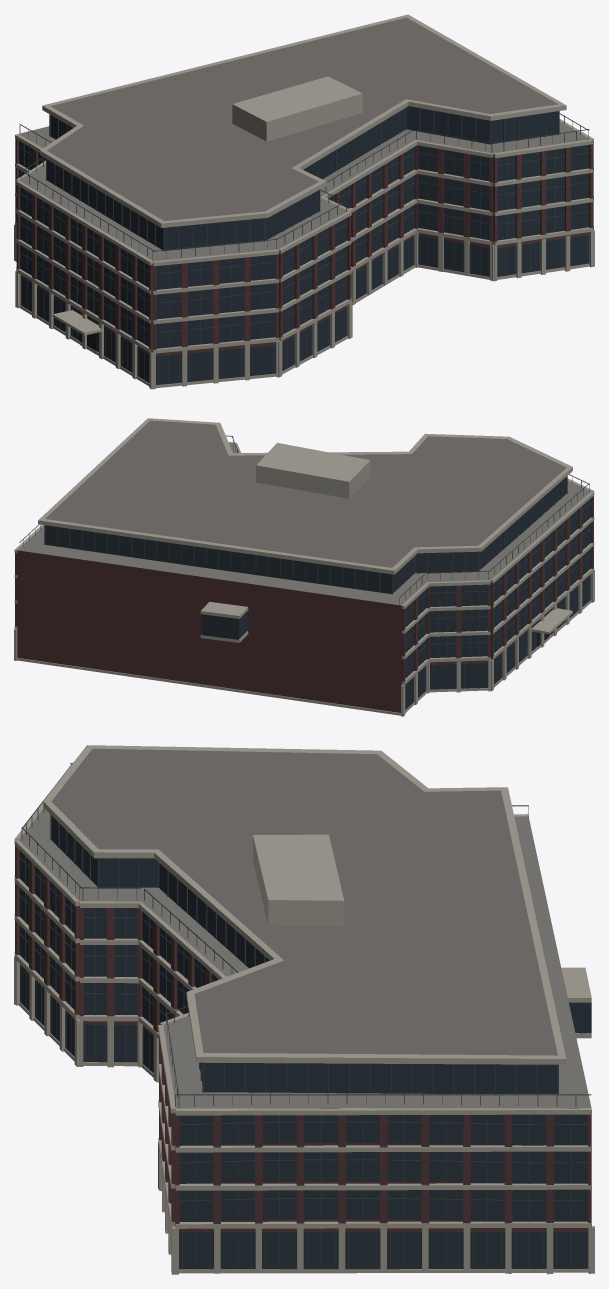
The model's file is rca_frayling_building.glb.
3 renders of one model, top to bottom at view 1: azimuth 30°, elevation 25°; view 2: azimuth 150°, elevation 25°; view 3: azimuth 270°, elevation 25°, orthographic. The views are drawn at different scales.
Bounding box in the file's own units: 59.58 × 22.7 × 45.56.
